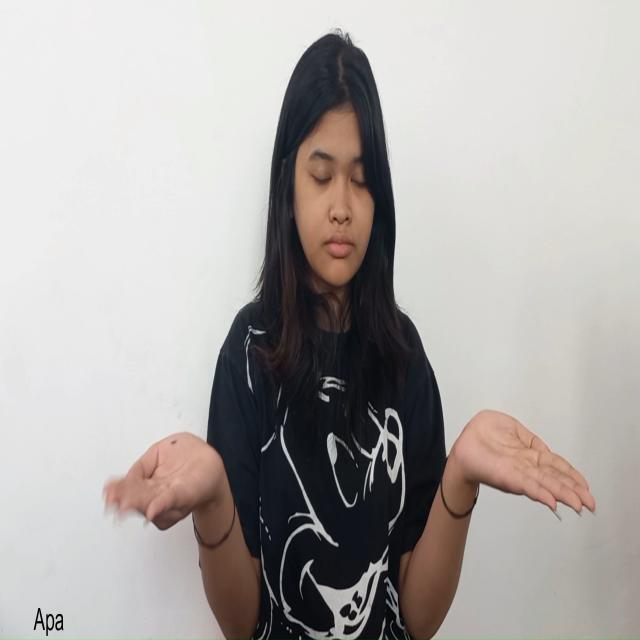Apa -BISINDO-: (99, 406, 598, 533)
